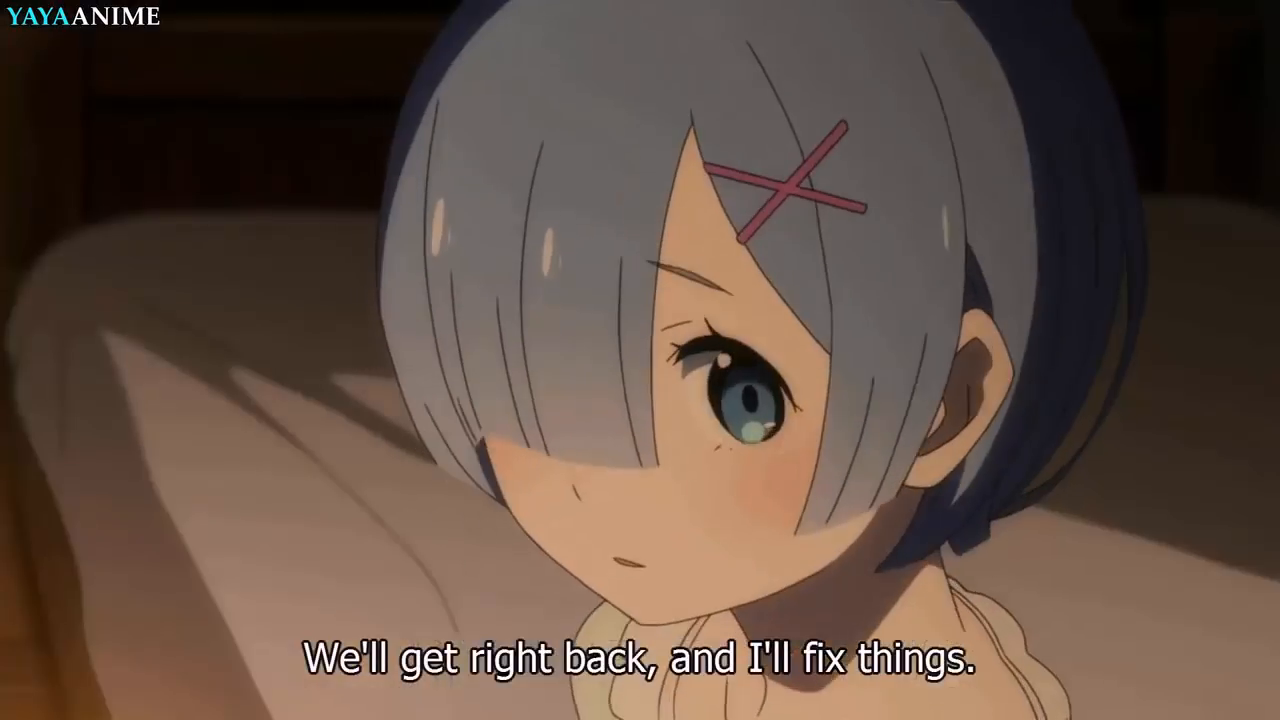REM: (373, 2, 1143, 630)
